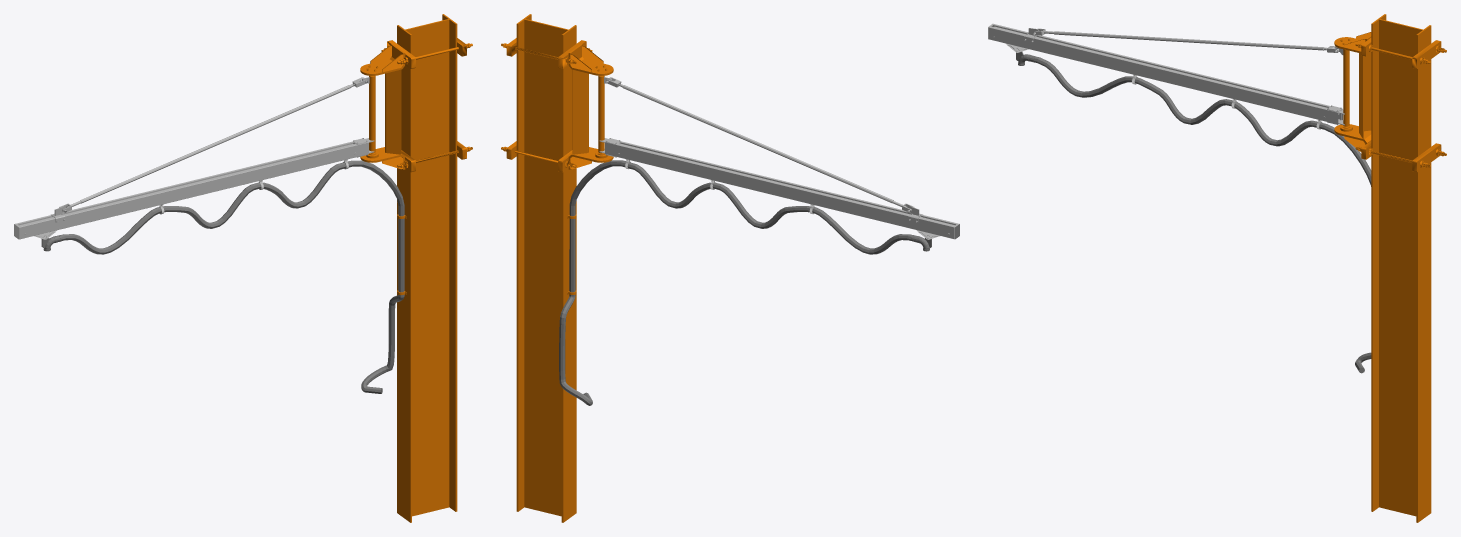
The model's file is aardwolf_all_part_WALL BRACED JIB CRANE 3M 125KG@p1_-200_0_0@p2_3284_0_3029_X.fbx.
3 views of the same model, side by side, from view 1: azimuth 30°, elevation 25°; view 2: azimuth 150°, elevation 25°; view 3: azimuth 330°, elevation 25° (orthographic).
Visible parts, largest first — view 1: yellow003, aardwolf_all_part_obj329, aardwolf_all_part_obj330, Shape153, Shape154, Object110; view 2: yellow003, aardwolf_all_part_obj329, aardwolf_all_part_obj330, Shape153, Shape154, Object110; view 3: yellow003, aardwolf_all_part_obj329, aardwolf_all_part_obj330, Shape153, Object110, Shape154.
Part boxes in pixels (<box>): yellow003: <box>397,14,457,522</box>; aardwolf_all_part_obj329: <box>14,65,378,239</box>; aardwolf_all_part_obj330: <box>360,38,472,172</box>; Shape153: <box>61,162,345,254</box>; Shape154: <box>347,160,404,393</box>; Object110: <box>385,70,401,154</box>; yellow003: <box>516,14,576,522</box>; aardwolf_all_part_obj329: <box>595,65,959,239</box>; aardwolf_all_part_obj330: <box>501,38,613,172</box>; Shape153: <box>627,162,912,254</box>; Shape154: <box>559,160,626,405</box>; Object110: <box>572,70,588,154</box>; yellow003: <box>1371,14,1431,522</box>; aardwolf_all_part_obj329: <box>988,23,1352,131</box>; aardwolf_all_part_obj330: <box>1334,32,1446,172</box>; Shape153: <box>1033,56,1317,146</box>; Object110: <box>1359,53,1371,138</box>; Shape154: <box>1319,122,1371,373</box>.
Bounding box in the file's own units: 3845 × 4000 × 385.
